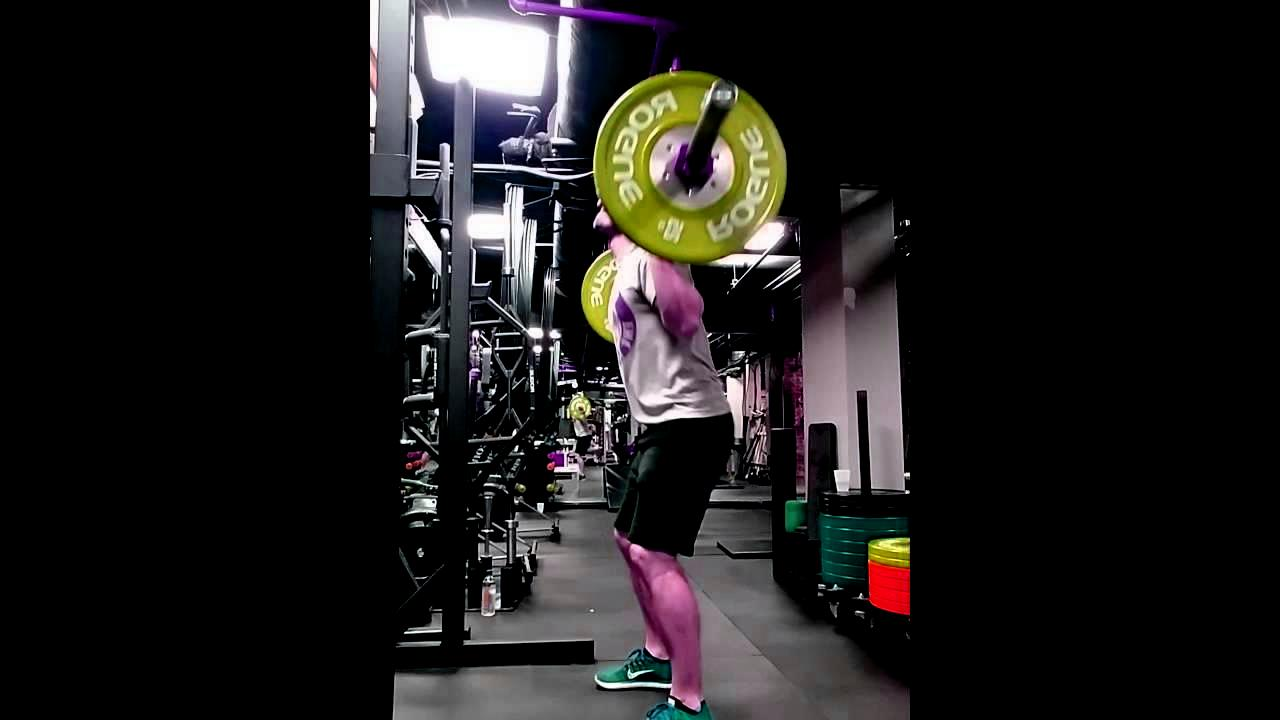Barbell: (704, 76, 740, 116)
